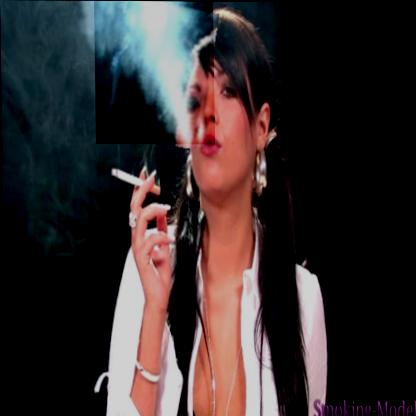smoke: (94, 1, 215, 144)
